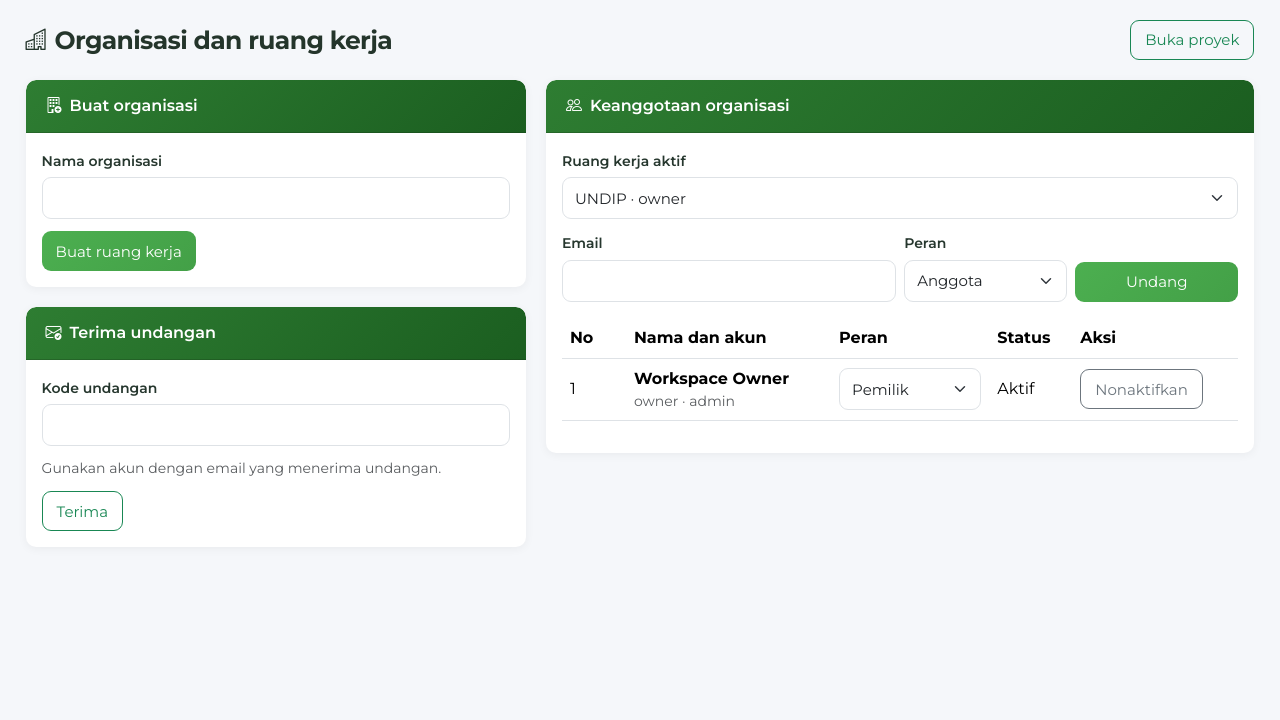
Test: refreshes membership before loading management-only data after self-demotion
Expected: the text "Workspace Owner" is shown, [634,369,789,388]
Select "Anggota" in the dropdown named "Peran owner" at [910, 389], box [839,368,981,410]
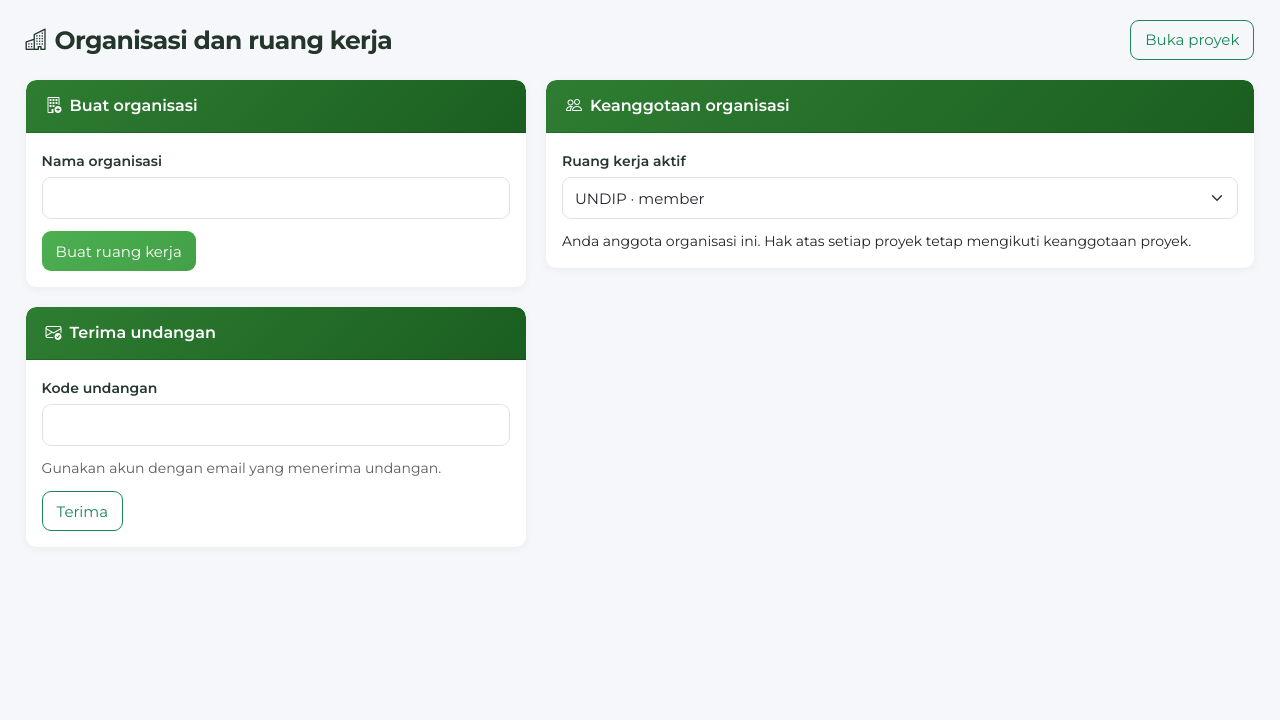
Expected: the text "Anda anggota organisasi ini" is shown, [562,232,1191,250]
